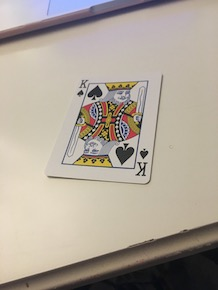KingOfSpades: (39, 72, 169, 186)
